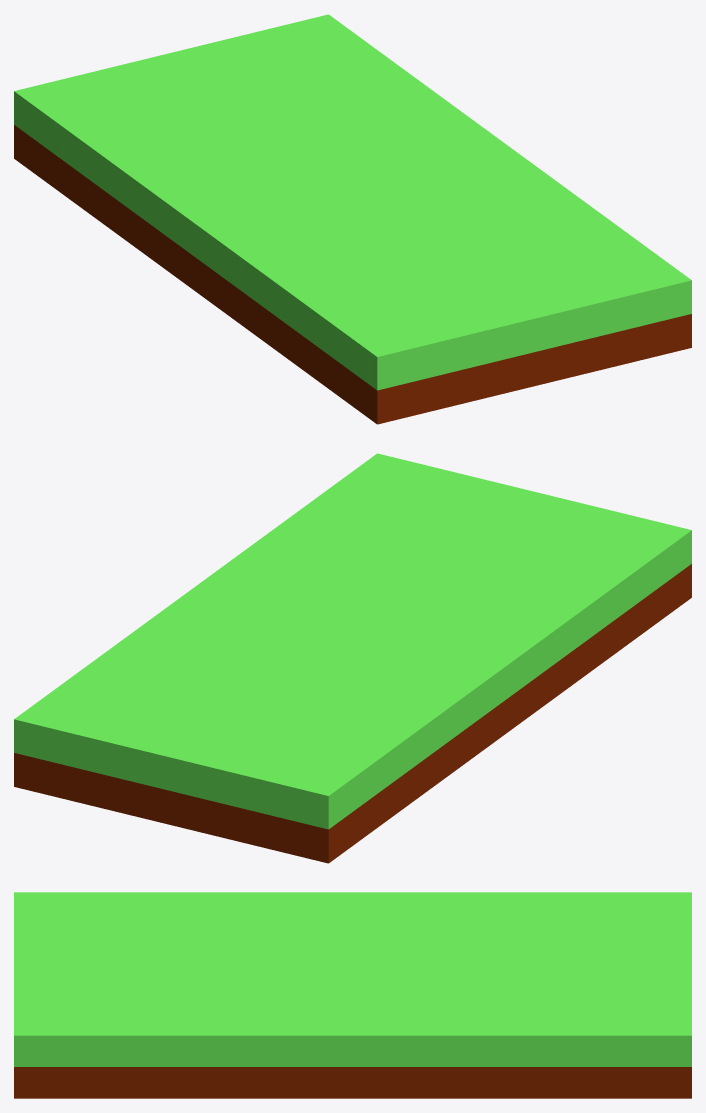
The model's file is escenarioTestsupperior1.fbx.
3 views of the same model, one above another, from view 1: azimuth 30°, elevation 25°; view 2: azimuth 150°, elevation 25°; view 3: azimuth 270°, elevation 25° (orthographic). The views are drawn at different scales.
Visible parts, largest first — view 1: Cube.008; view 2: Cube.008; view 3: Cube.008.
Boxes of the visible parts, box(x1,y1,x2,y2) form: Cube.008: box(14, 14, 691, 424); Cube.008: box(14, 453, 691, 863); Cube.008: box(14, 892, 691, 1098).
Size of the model in its own units: 1189 by 244 by 2377.
